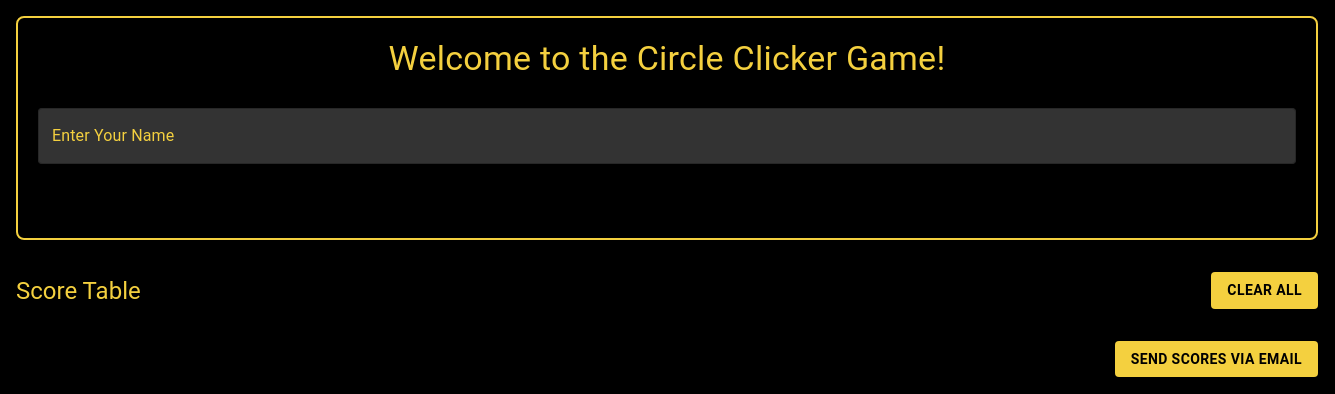
Test: enables start button when a name is entered
Type "Alice" into the field labelled "Enter Your Name".
click(667, 136); type("Alice")  # box [38, 108, 1296, 164]
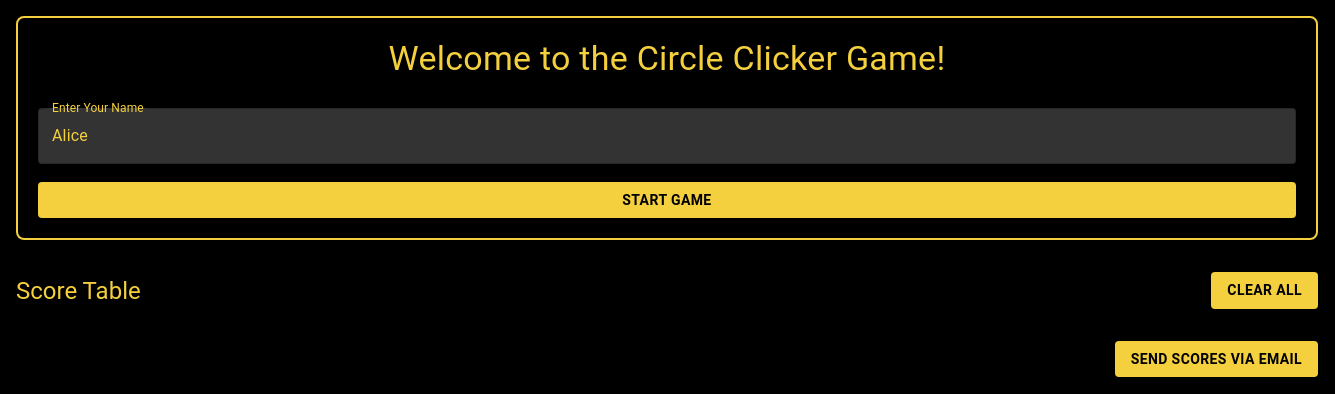
Now the button "Start Game" is enabled, box [38, 182, 1296, 218]
